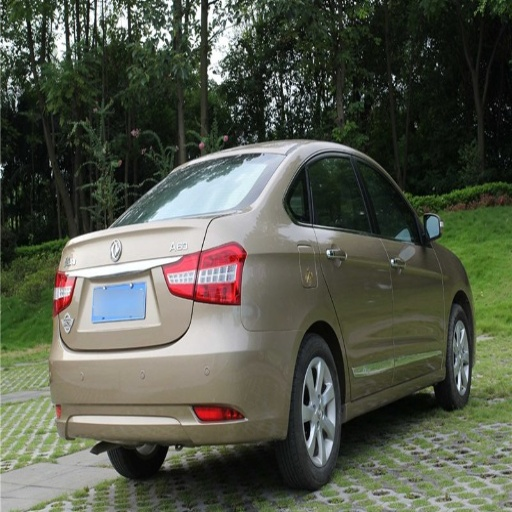back_bumper: (50, 301, 300, 444)
back_right_door: (298, 149, 394, 396)
